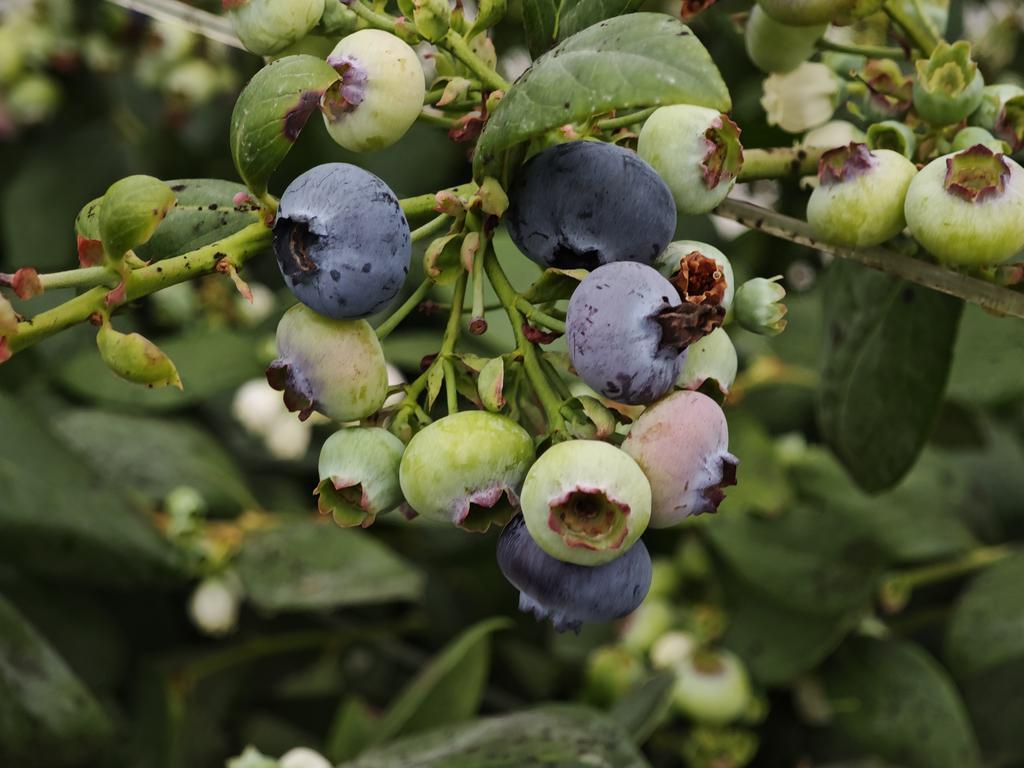RipeBlueBerry: (274, 163, 413, 320), (508, 141, 677, 267), (562, 261, 689, 404), (497, 521, 653, 628)
Semi-RipeBlueBerry: (630, 390, 729, 531)
UnripeBlueBerry: (522, 437, 655, 567), (399, 410, 528, 530), (904, 144, 1024, 267), (317, 27, 426, 152), (270, 310, 388, 423), (636, 105, 743, 212), (807, 136, 910, 247), (315, 426, 401, 528)
